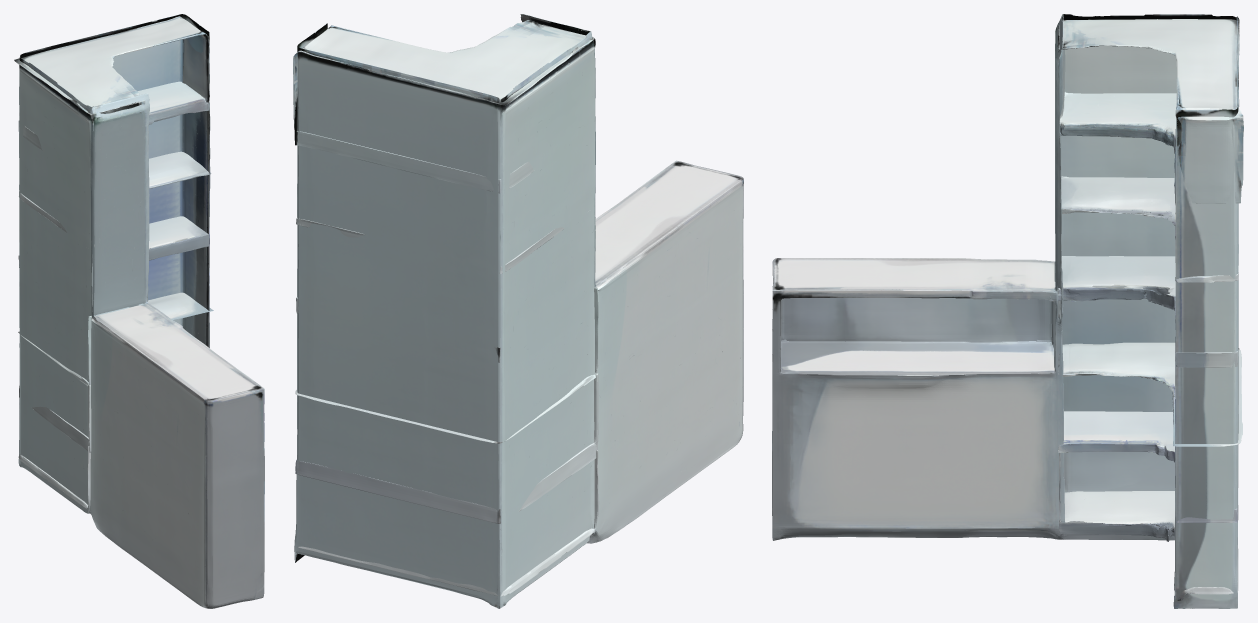
File: prediction.glb
3 renders of one model, left to right at view 1: azimuth 30°, elevation 25°; view 2: azimuth 150°, elevation 25°; view 3: azimuth 270°, elevation 25°, orthographic. The views are drawn at different scales.
Visible parts, largest first — view 1: 0_geometry_0, 3_geometry_0, 5_geometry_0, 4_geometry_0, 2_geometry_0, 6_geometry_0, 1_geometry_0; view 2: 0_geometry_0, 3_geometry_0, 6_geometry_0, 1_geometry_0, 2_geometry_0, 4_geometry_0; view 3: 0_geometry_0, 3_geometry_0, 5_geometry_0, 1_geometry_0, 6_geometry_0, 2_geometry_0, 4_geometry_0.
Boxes of the visible parts, x1=… form: 0_geometry_0: x1=18, y1=14, x2=264, y2=608; 3_geometry_0: x1=14, y1=16, x2=209, y2=150; 5_geometry_0: x1=18, y1=216, x2=209, y2=318; 4_geometry_0: x1=19, y1=151, x2=211, y2=247; 2_geometry_0: x1=18, y1=292, x2=213, y2=386; 6_geometry_0: x1=19, y1=385, x2=91, y2=452; 1_geometry_0: x1=18, y1=446, x2=91, y2=514; 0_geometry_0: x1=294, y1=14, x2=743, y2=608; 3_geometry_0: x1=293, y1=20, x2=595, y2=193; 6_geometry_0: x1=295, y1=373, x2=598, y2=523; 1_geometry_0: x1=298, y1=450, x2=599, y2=596; 2_geometry_0: x1=295, y1=287, x2=598, y2=443; 4_geometry_0: x1=296, y1=211, x2=588, y2=273; 0_geometry_0: x1=772, y1=14, x2=1238, y2=608; 3_geometry_0: x1=1057, y1=16, x2=1243, y2=203; 5_geometry_0: x1=1049, y1=256, x2=1237, y2=367; 1_geometry_0: x1=1059, y1=453, x2=1238, y2=600; 6_geometry_0: x1=1058, y1=411, x2=1238, y2=522; 2_geometry_0: x1=1058, y1=301, x2=1242, y2=446; 4_geometry_0: x1=1059, y1=136, x2=1238, y2=282.
Size of the model in its own units: 0.4381 by 1 by 0.858.
Materials: 7 (7 with a texture image).
